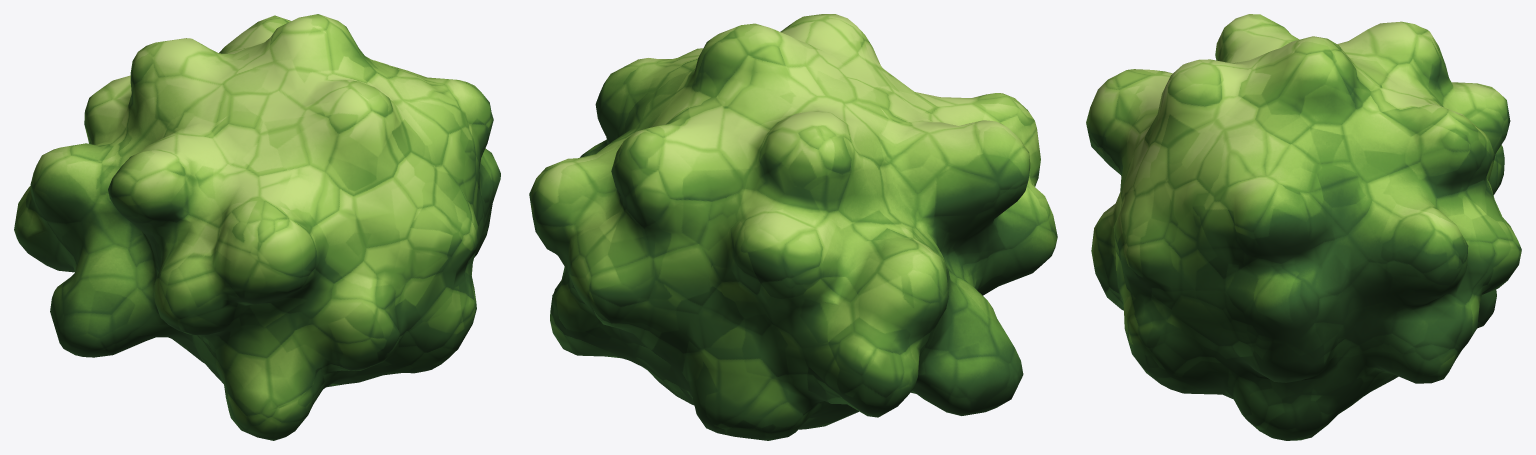
File: bush_round.glb
3 views of the same model, side by side, from view 1: azimuth 30°, elevation 25°; view 2: azimuth 150°, elevation 25°; view 3: azimuth 270°, elevation 25° (orthographic). The views are drawn at different scales.
Visible parts, largest first — view 1: bush_round; view 2: bush_round; view 3: bush_round.
Boxes of the visible parts, x1=… form: bush_round: x1=14, y1=14, x2=500, y2=440; bush_round: x1=529, y1=14, x2=1057, y2=440; bush_round: x1=1086, y1=14, x2=1521, y2=440.
Size of the model in its own units: 1.75 by 1.39 by 1.53.
Materials: 1 (1 with a texture image).
